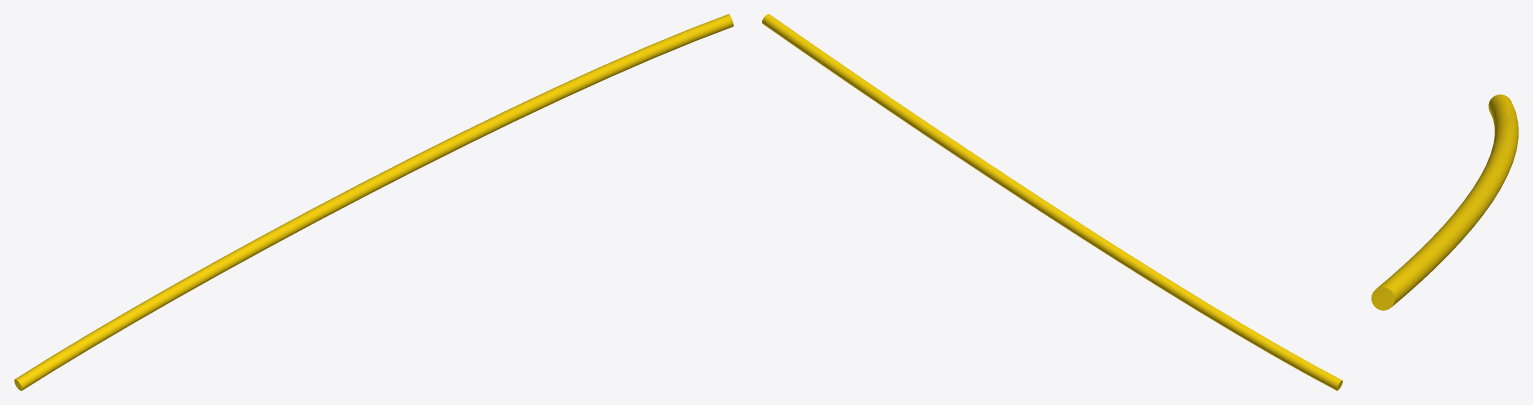
Rendered from Event_421115418_track_60.fbx.
3 renders of one model, left to right at view 1: azimuth 30°, elevation 25°; view 2: azimuth 150°, elevation 25°; view 3: azimuth 270°, elevation 25°, orthographic. The views are drawn at different scales.
Parts seen in each view (by area): view 1: Model; view 2: Model; view 3: Model.
Part boxes in pixels (x1=…): Model: x1=14, y1=14, x2=733, y2=390; Model: x1=762, y1=14, x2=1342, y2=390; Model: x1=1371, y1=94, x2=1518, y2=310.
Bounding box in the file's own units: 2.34 × 0.7676 × 0.246.
